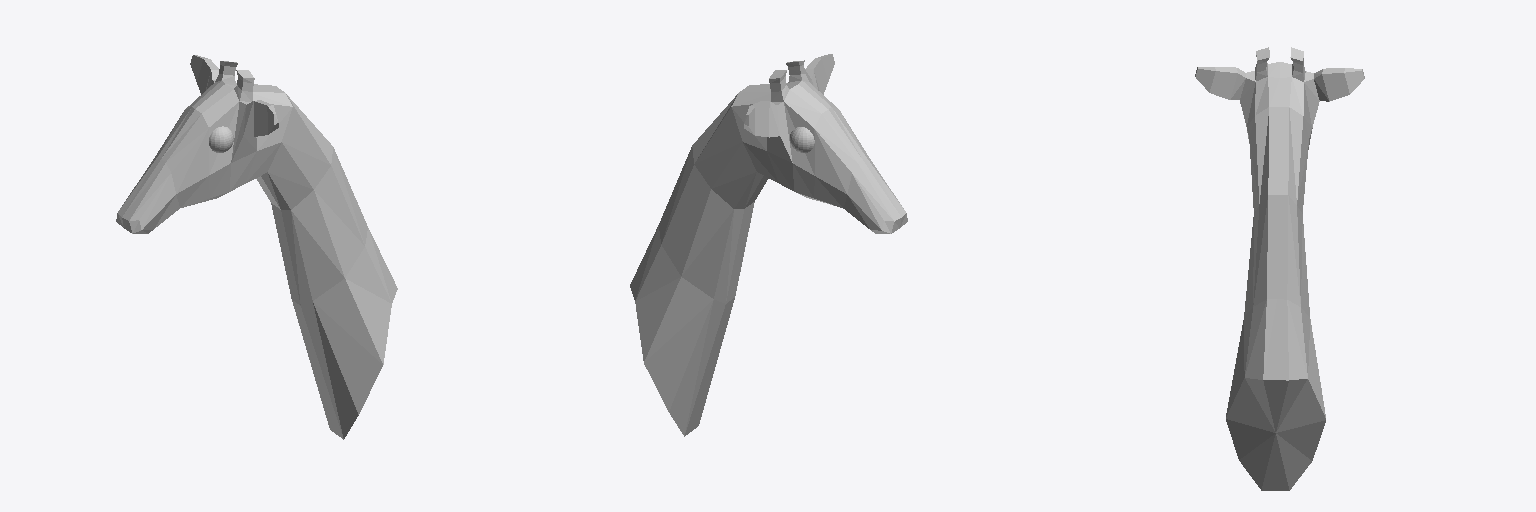
File: Cabeza.obj
3 views of the same model, side by side, from view 1: azimuth 30°, elevation 25°; view 2: azimuth 150°, elevation 25°; view 3: azimuth 270°, elevation 25° (orthographic).
Parts seen in each view (by area): view 1: polySurface27; view 2: polySurface27; view 3: polySurface27.
Part boxes in pixels (x1,y1,x2,y2): polySurface27: (116, 55, 397, 439); polySurface27: (630, 54, 907, 436); polySurface27: (1195, 47, 1364, 490).
Size of the model in its own units: 1.37 by 1.92 by 0.757.